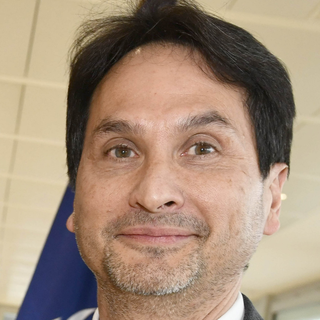eye: (178, 138, 227, 163), (100, 139, 146, 164)
